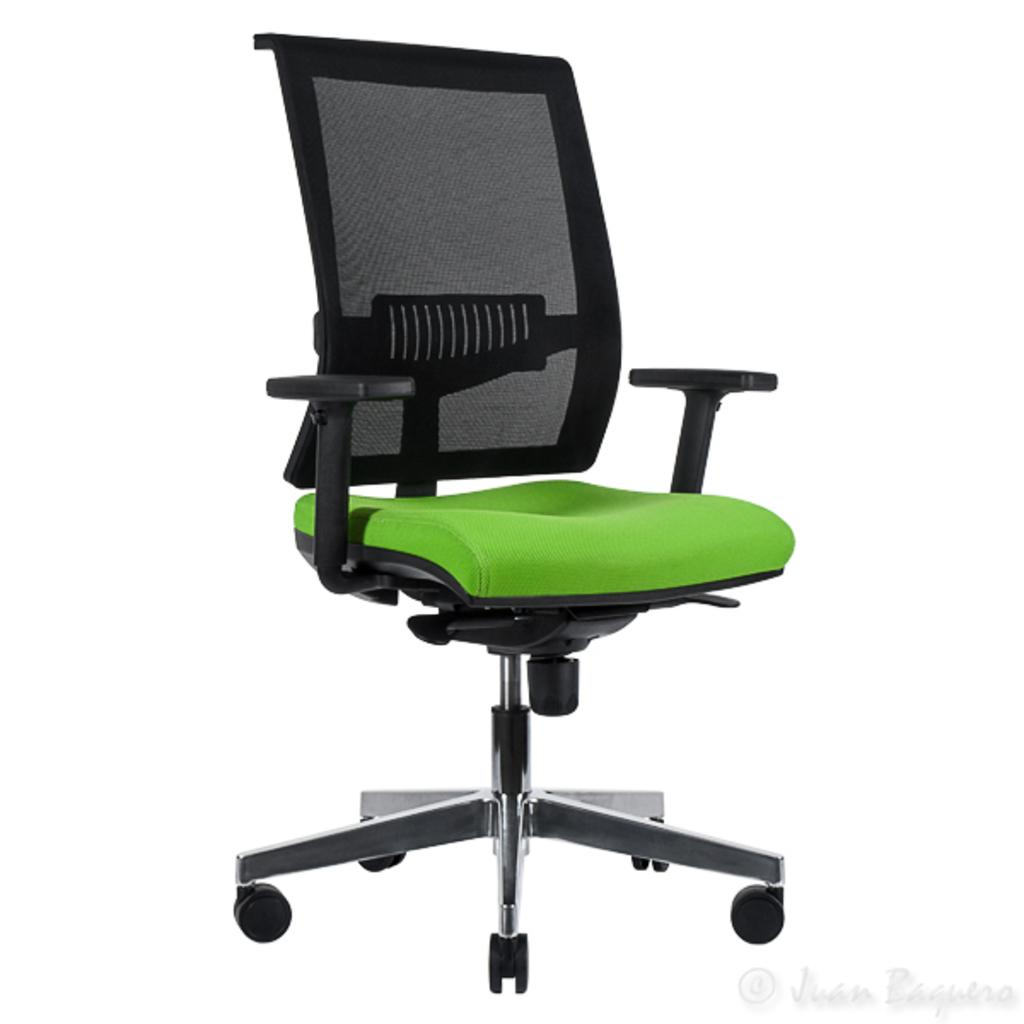Chair: (232, 27, 797, 995)
